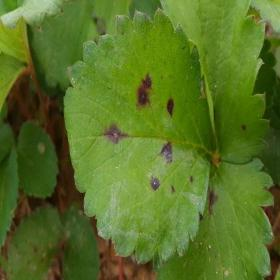Leaf Spot: (63, 6, 214, 265), (160, 0, 271, 165), (152, 158, 276, 279), (4, 202, 67, 279)
